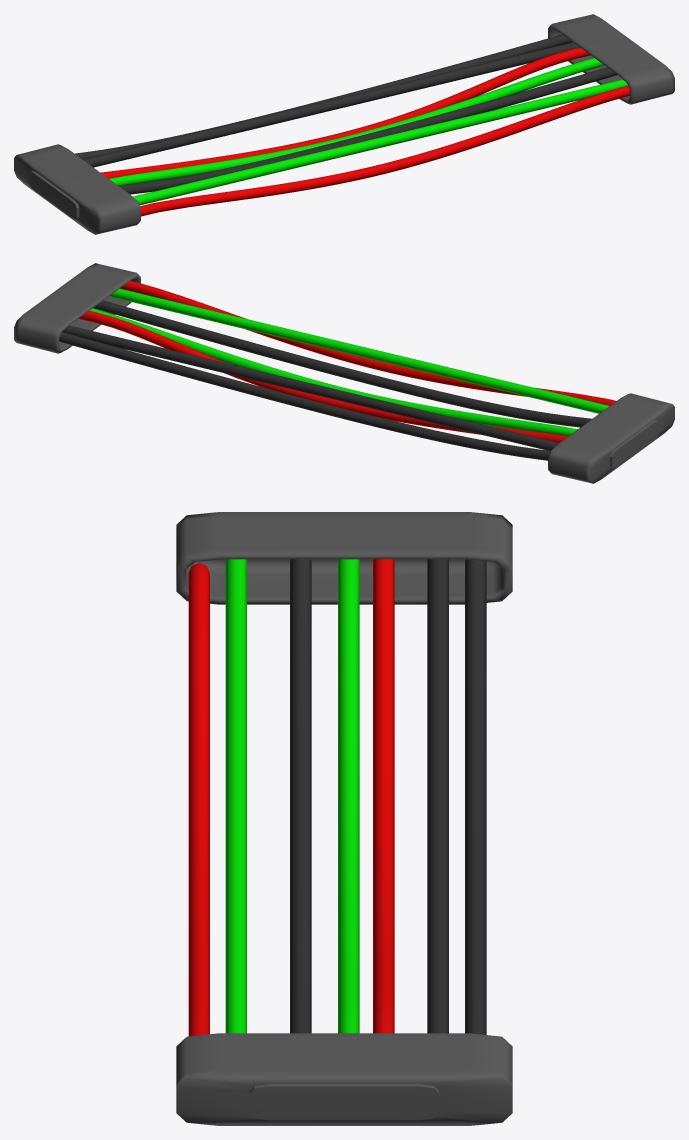
The model's file is WireRoof.fbx.
The picture shows the model from 3 angles, top to bottom: view 1: azimuth 30°, elevation 25°; view 2: azimuth 150°, elevation 25°; view 3: azimuth 270°, elevation 25°; orthographic projection. The views are drawn at different scales.
Parts seen in each view (by area): view 1: Wires, WireEnds; view 2: Wires, WireEnds; view 3: Wires, WireEnds.
Part boxes in pixels (box(x1,y1,x2,y2)): Wires: box(75, 34, 629, 216); WireEnds: box(14, 14, 674, 234); Wires: box(59, 281, 615, 460); WireEnds: box(14, 263, 674, 483); Wires: box(188, 559, 486, 1036); WireEnds: box(176, 512, 512, 1125).
Size of the model in its own units: 12.01 by 0.7957 by 3.
